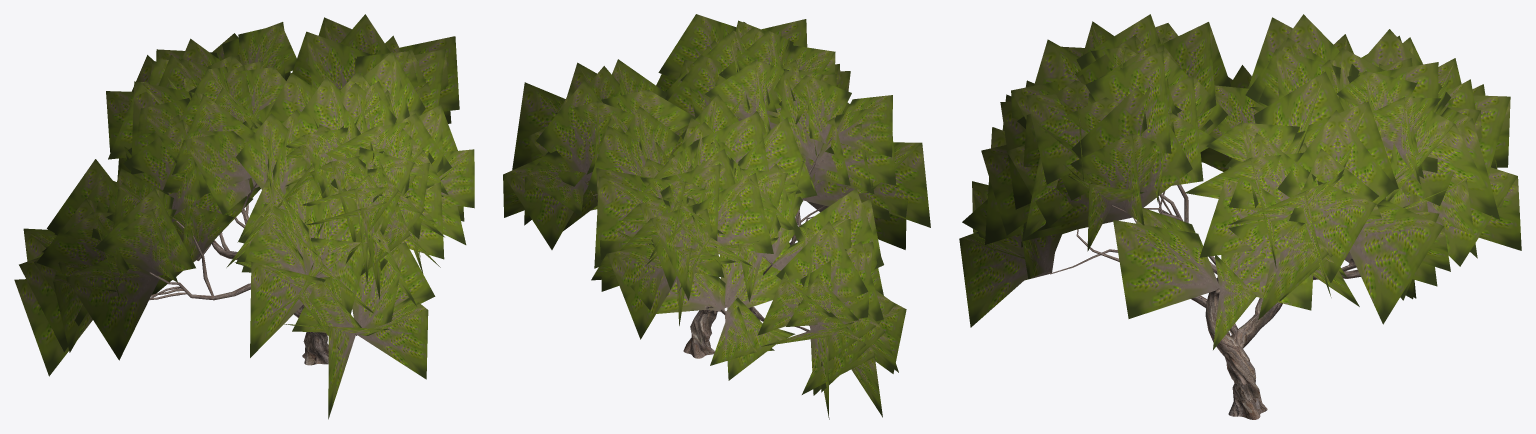
The model's file is AcaciaGen02_04c.fbx.
3 renders of one model, left to right at view 1: azimuth 30°, elevation 25°; view 2: azimuth 150°, elevation 25°; view 3: azimuth 270°, elevation 25°, orthographic. The views are drawn at different scales.
Parts seen in each view (by area): view 1: Tree_1, Tree_0; view 2: Tree_1, Tree_0; view 3: Tree_1, Tree_0.
Part boxes in pixels (x1,y1,x2,y2): Tree_1: (14, 14, 474, 419); Tree_0: (149, 178, 357, 365); Tree_1: (503, 14, 930, 419); Tree_0: (587, 128, 838, 358); Tree_1: (959, 14, 1521, 349); Tree_0: (1048, 184, 1360, 419).
Size of the model in its own units: 92.57 by 69.39 by 92.13.
